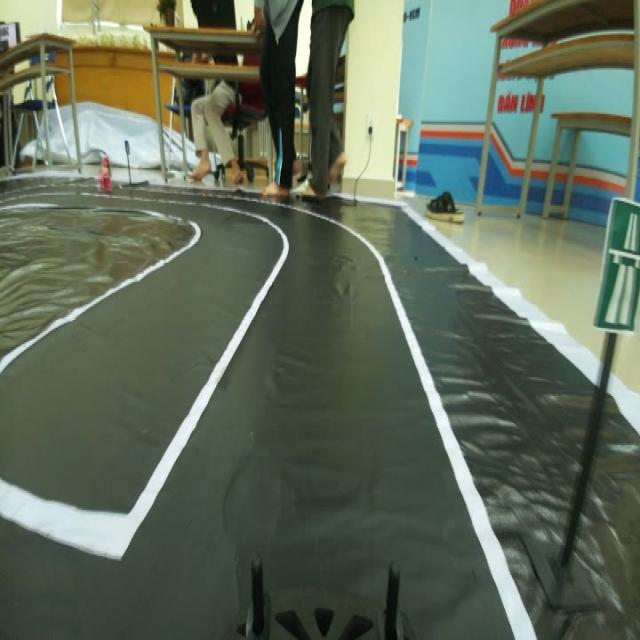highway_entry: (603, 192, 640, 336)
